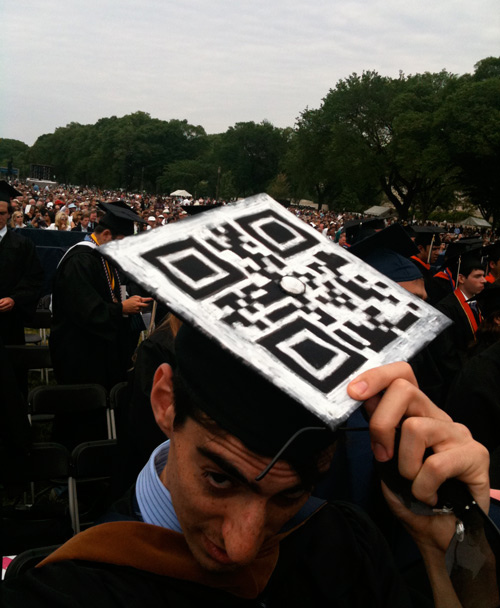QR-CODE: (140, 208, 427, 394)
